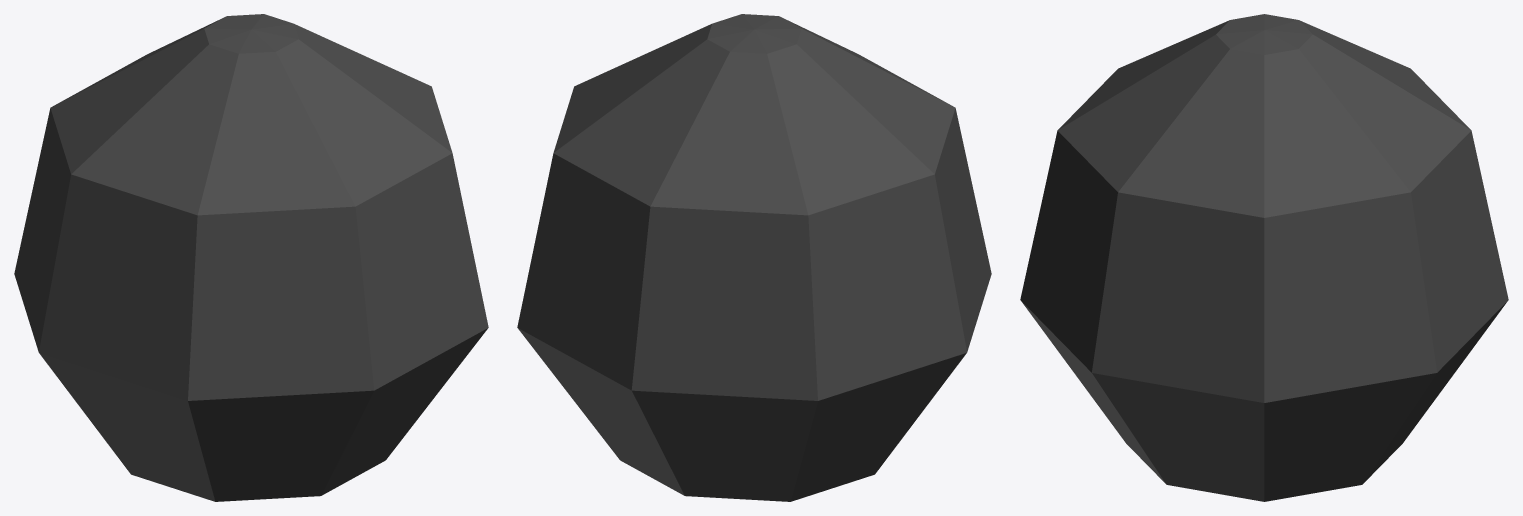
File: ModularSwordKit_Knauf02.fbx
The picture shows the model from 3 angles, left to right: view 1: azimuth 30°, elevation 25°; view 2: azimuth 150°, elevation 25°; view 3: azimuth 270°, elevation 25°; orthographic projection.
Parts seen in each view (by area): view 1: Knauf02; view 2: Knauf02; view 3: Knauf02.
Part boxes in pixels (x1,y1,x2,y2): Knauf02: (14,14,488,501); Knauf02: (517,14,991,501); Knauf02: (1020,14,1508,501).
Bounding box in the file's own units: 25.02 × 25.51 × 25.02.
